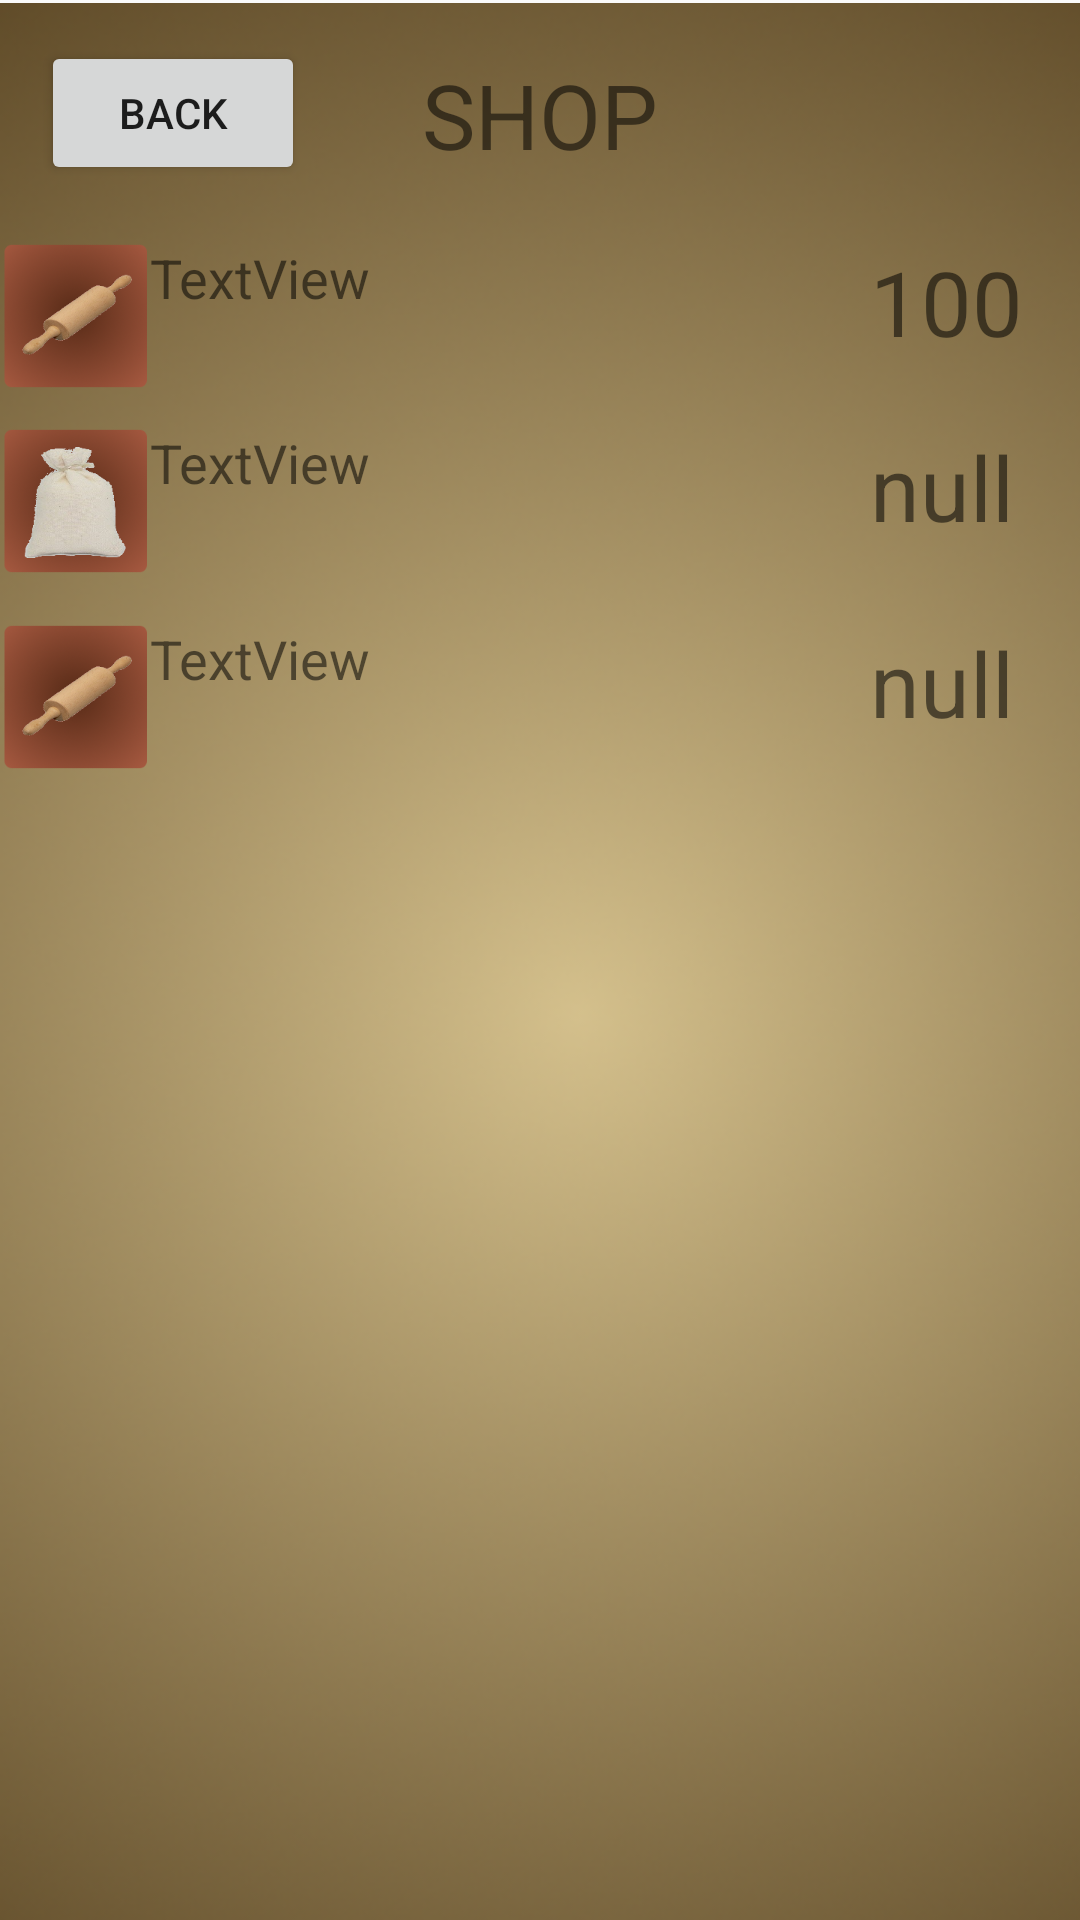

Where icons sit on this 1080 × 1920 app screen, as (x1, y1, x2, y2):
shop backmischung: (5, 430, 147, 572)
shop wellholz: (5, 245, 147, 387), (4, 626, 147, 768)
